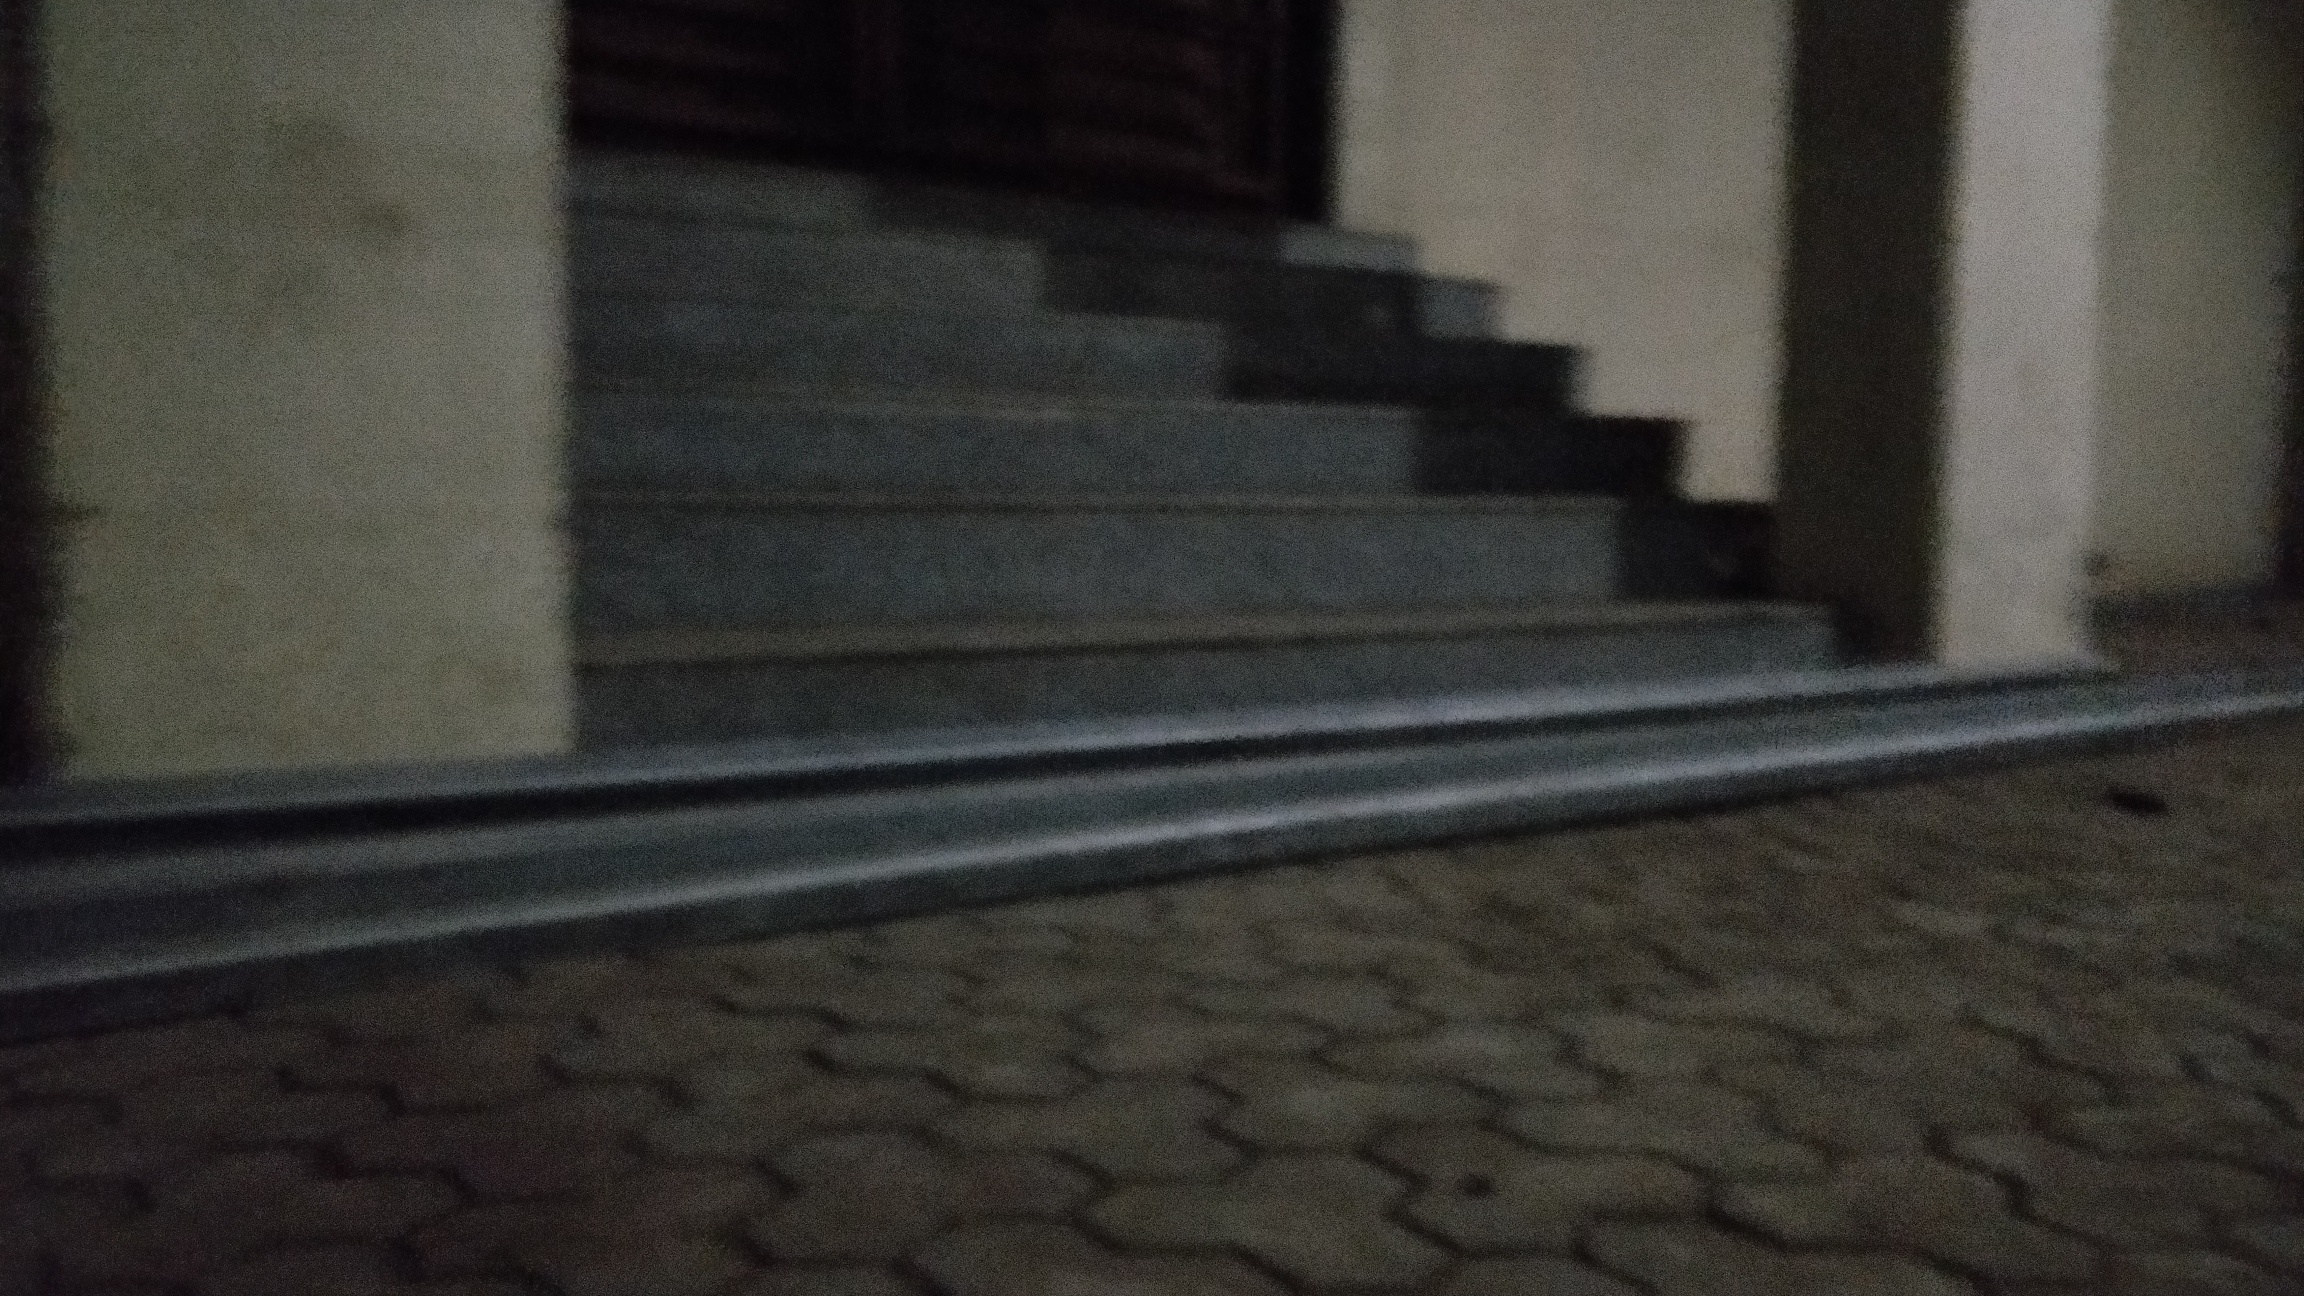stairs_up: (559, 176, 1815, 706)
